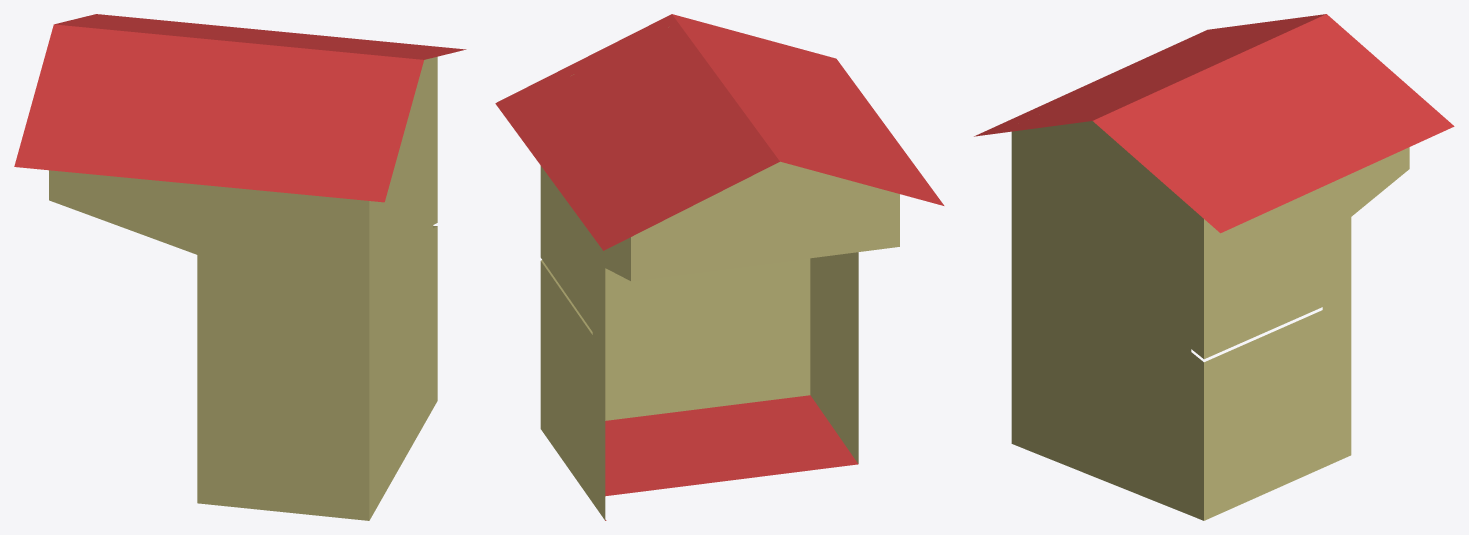
The picture shows the model from 3 angles, left to right: view 1: azimuth 30°, elevation 25°; view 2: azimuth 150°, elevation 25°; view 3: azimuth 270°, elevation 25°; orthographic projection. The views are drawn at different scales.
Parts seen in each view (by area): view 1: group_5, group_3, group_4; view 2: group_5, group_3, group_6, group_4; view 3: group_5, group_3, group_4.
Part boxes in pixels (x1,y1,x2,y2): group_5: (49,56,437,520); group_3: (14,14,462,202); group_4: (51,24,466,201); group_5: (540,27,899,520); group_3: (496,14,944,250); group_6: (605,395,857,520); group_4: (495,14,844,169); group_5: (1011,121,1409,520); group_3: (976,14,1454,232); group_4: (974,14,1325,233).
Size of the model in its own units: 14.65 by 14.64 by 12.31.
